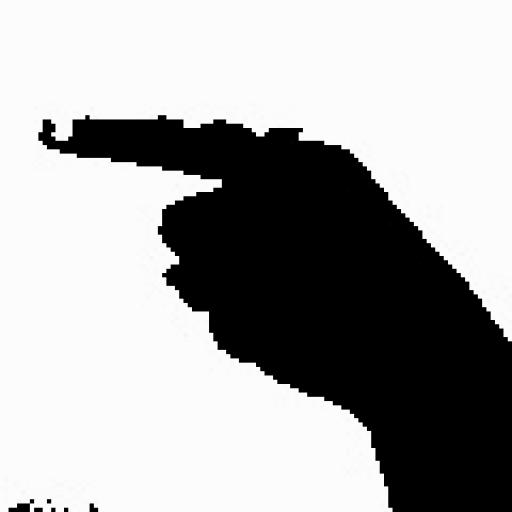index_left: (38, 116, 512, 394)
